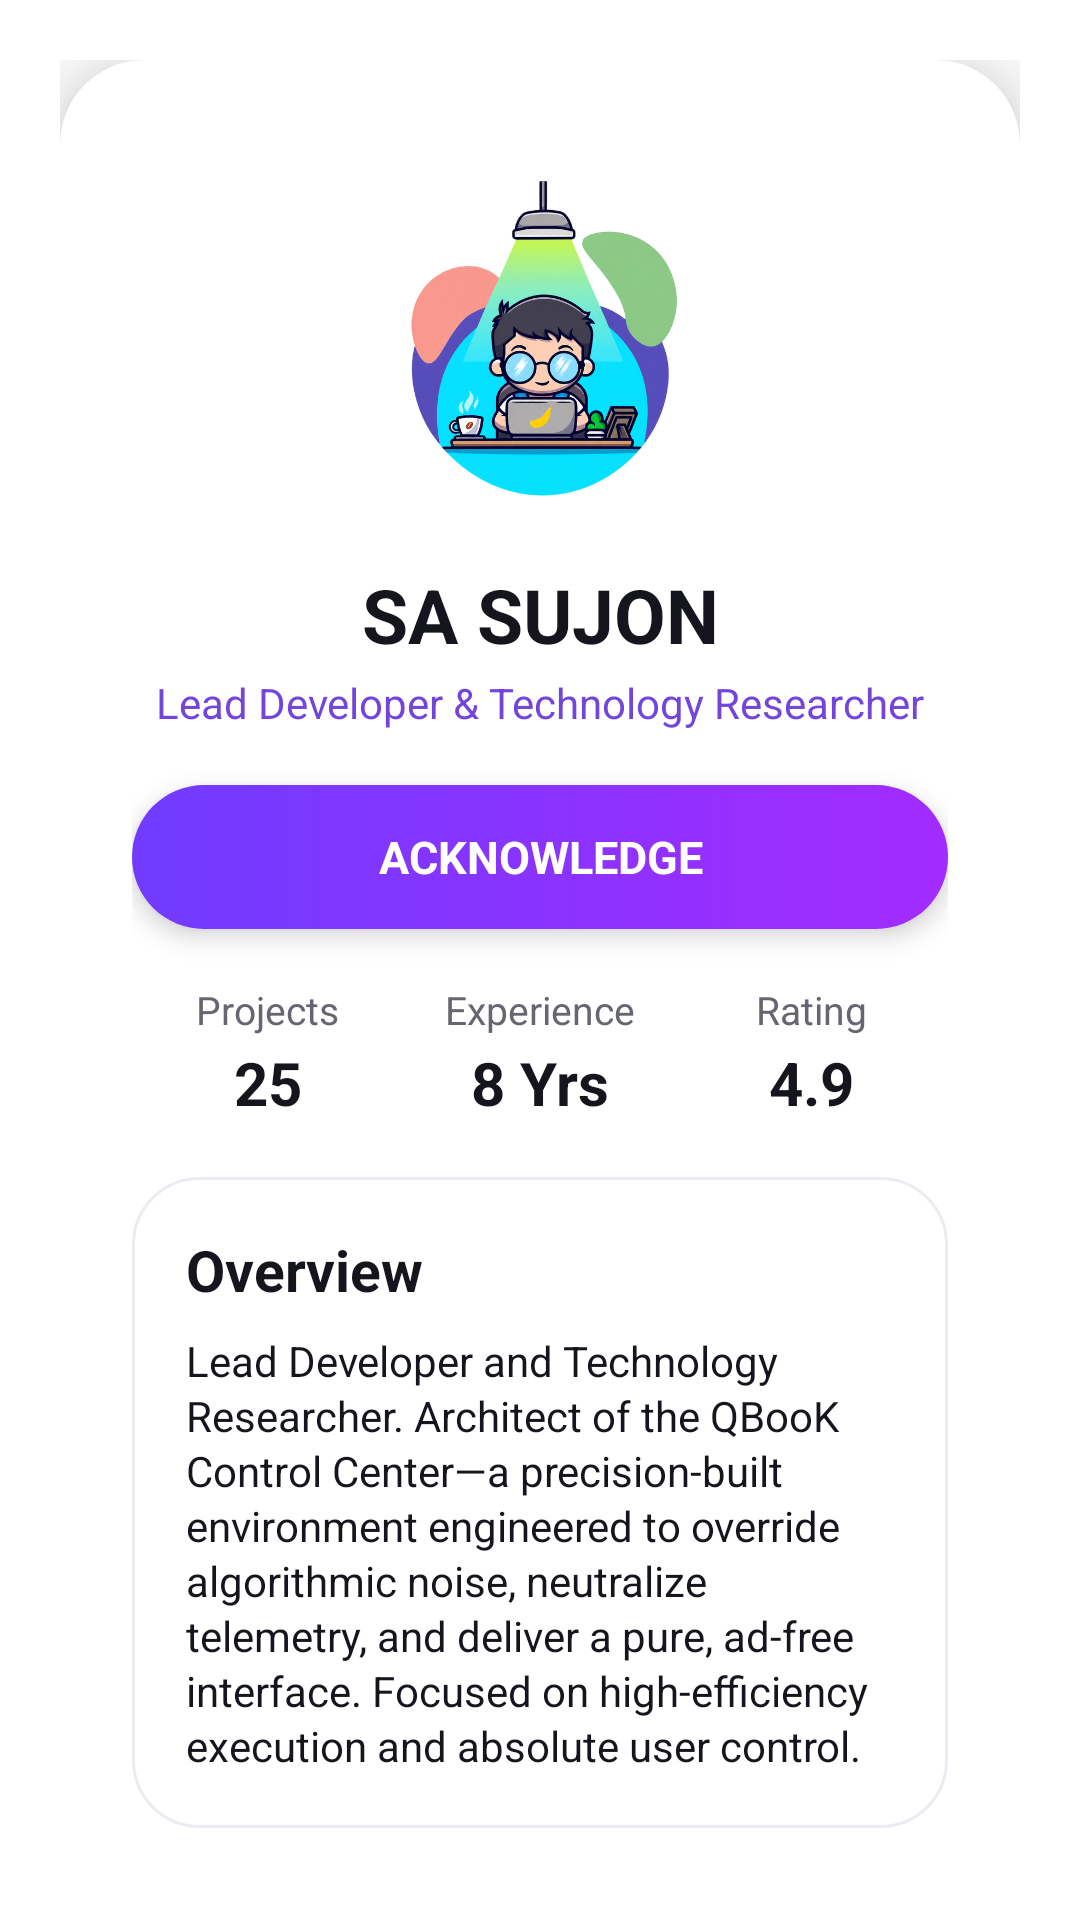

Screen size 1080 x 1920. Icon name, then its center in pixels as (x,y):
QBooK developer icon: (544,338)
